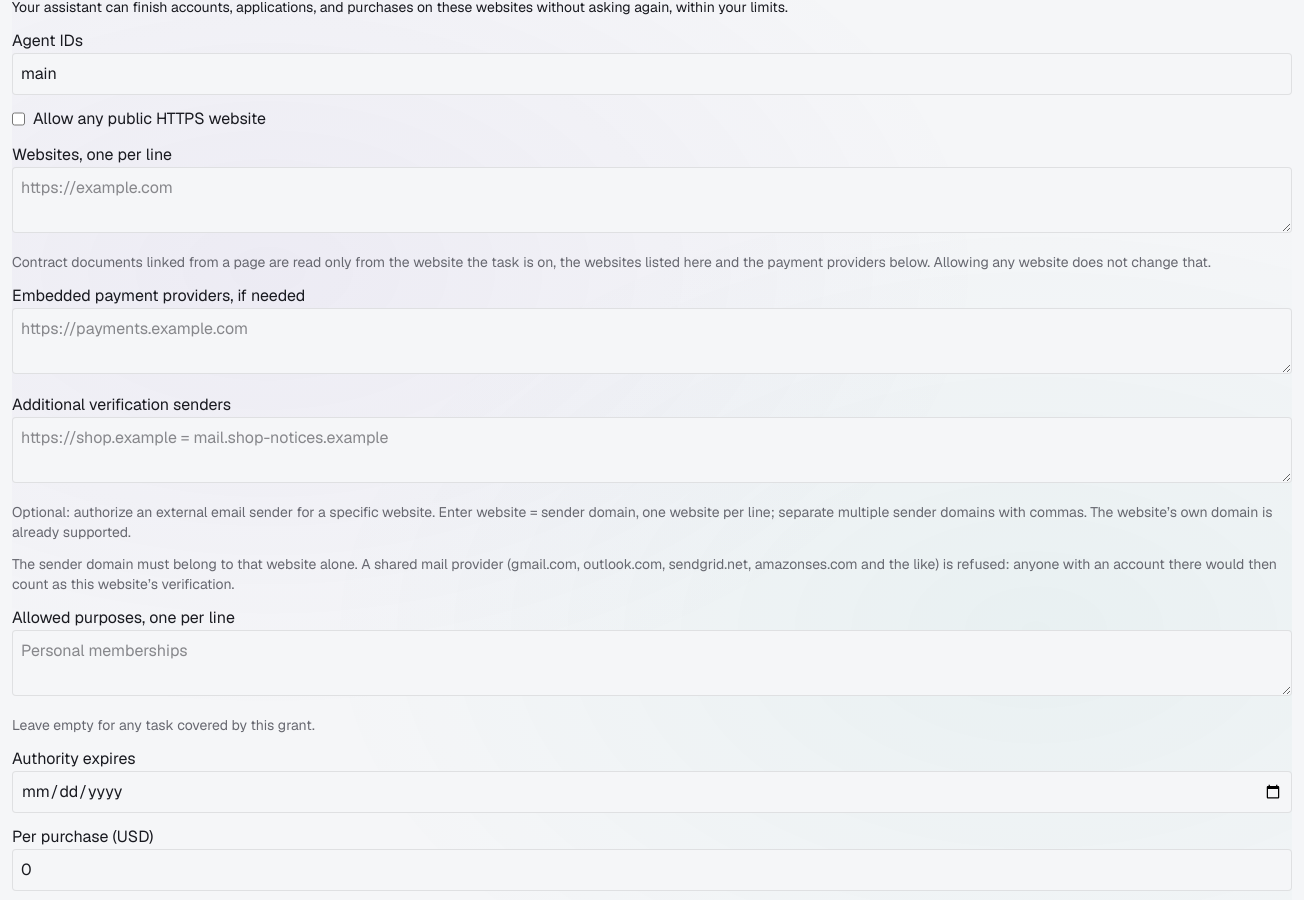
Test: does not grant authority when additional sender input is malformed
This screenshot has width=1304, height=900.
(page scrolled)
In the text box labelled "Additional verification senders": (652, 450) [12,417,1292,483], type "mail.provider.example"
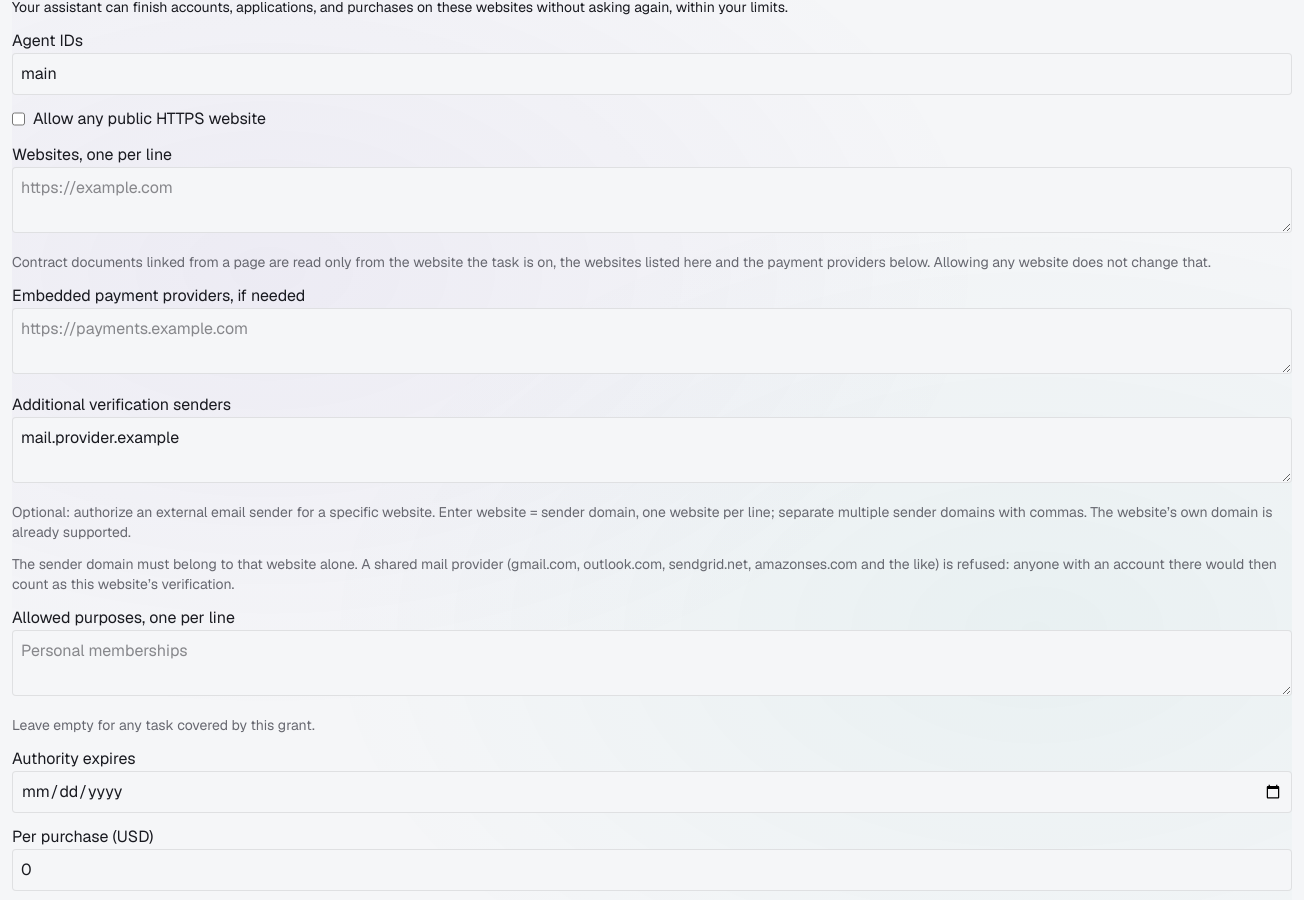
In the text box labelled "Websites, one per line": (652, 200) [12,167,1292,233], type "https://club.example"
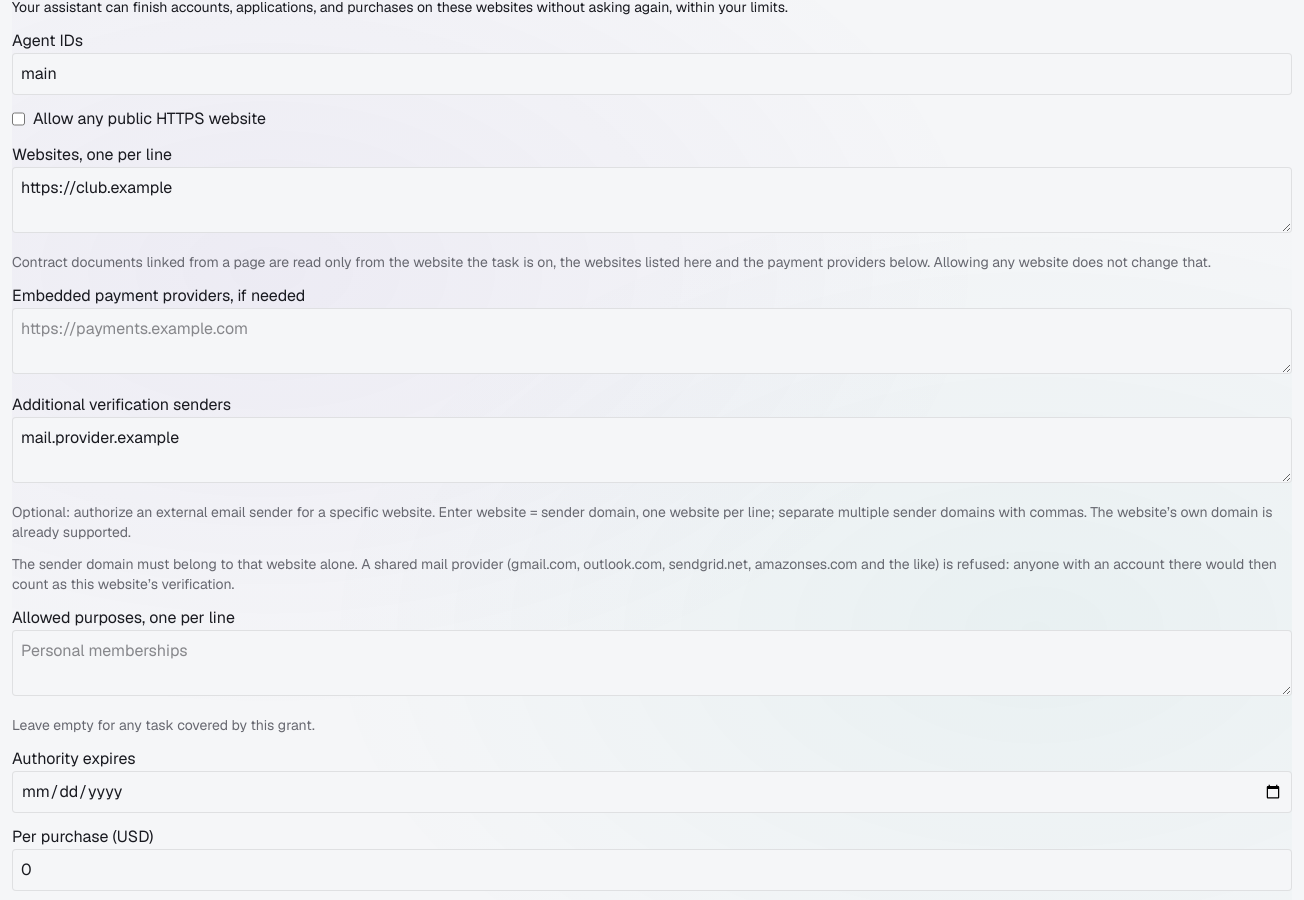
In the date field labelled "Authority expires": (652, 792) [12,771,1292,813], type "2030-01-01"
(page scrolled)
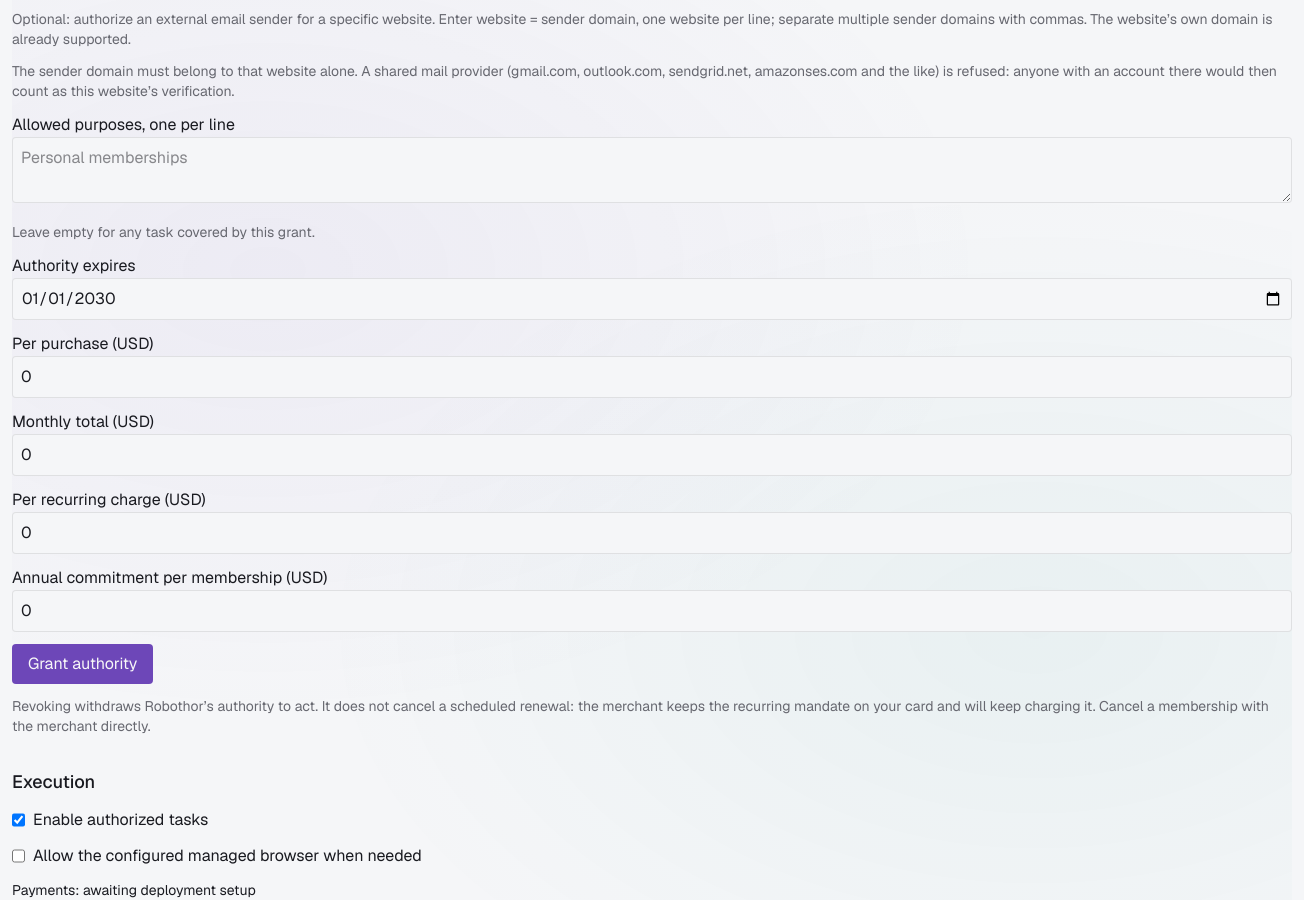
Click the button "Grant authority": (83, 664) [12,644,153,684]
(page scrolled)
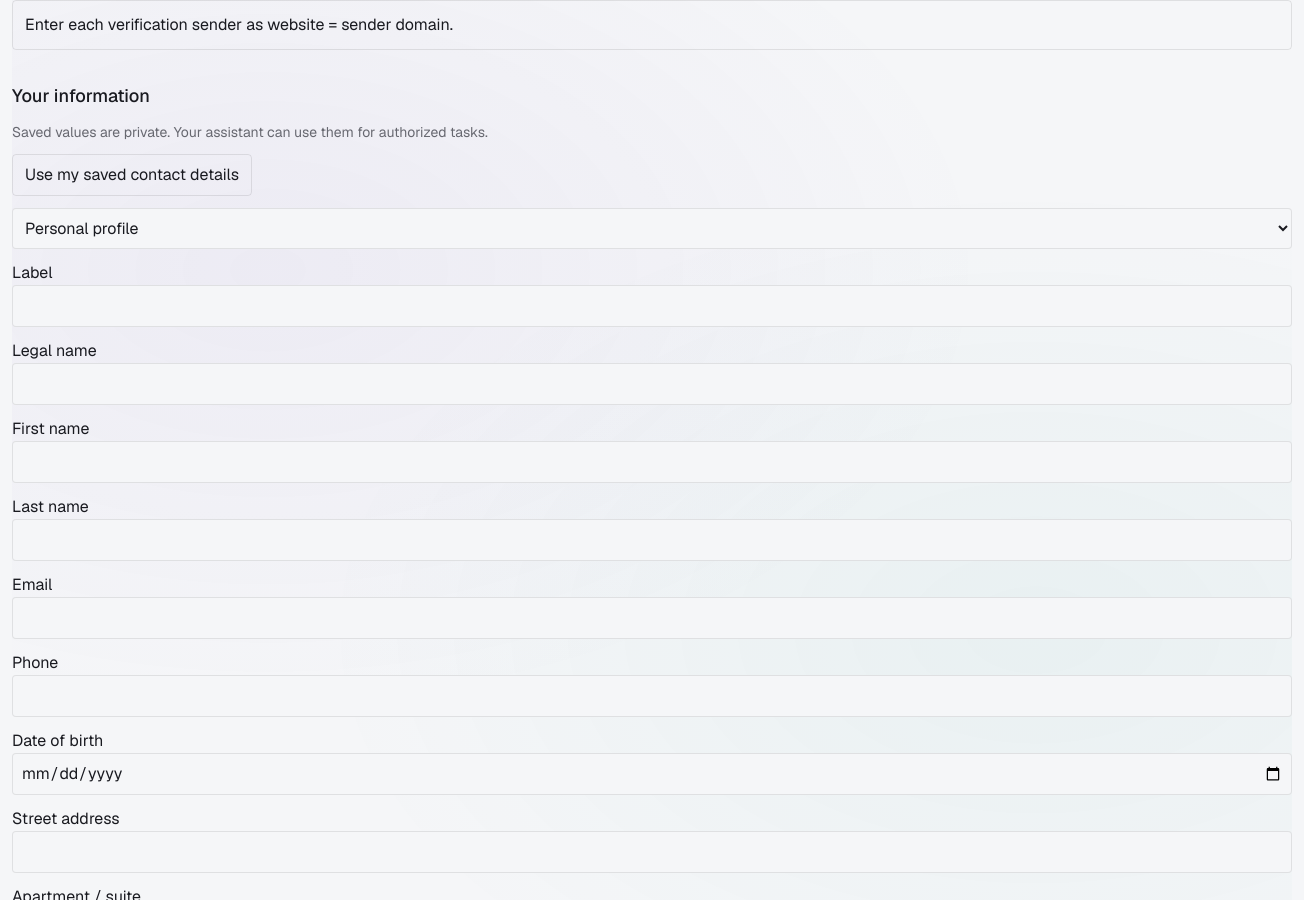
Now the text "Enter each verification sender as website = sender domain." is shown, box [12,0,1292,50]
